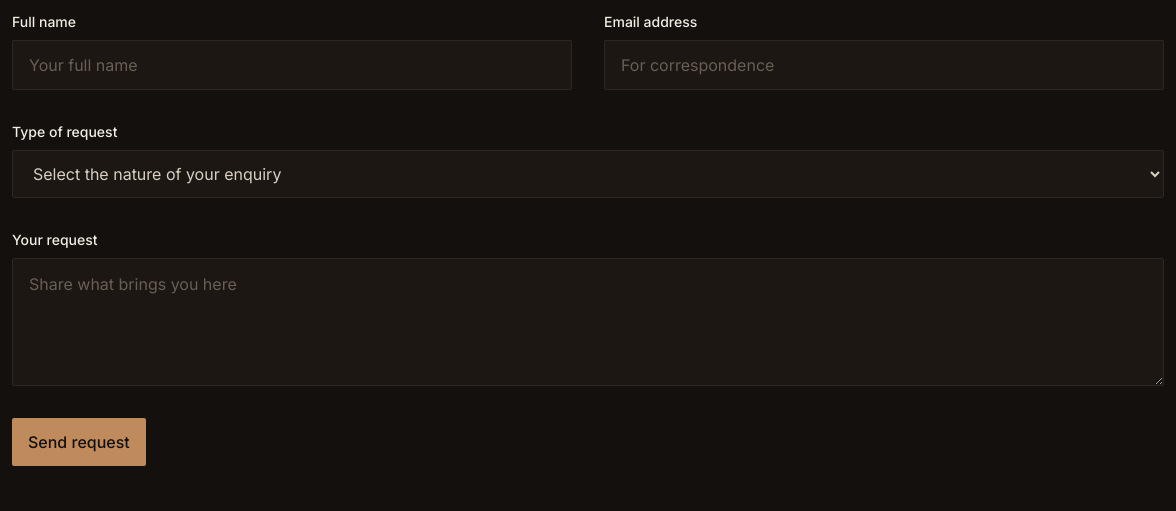
RequestForm — submitting › blocks a submission without selecting a request type
The width and height of the screenshot is (1176, 511).
Type "Thandi Mokoena" into the field labelled "Full name" at (292, 65), box left=12, top=40, right=572, bottom=90
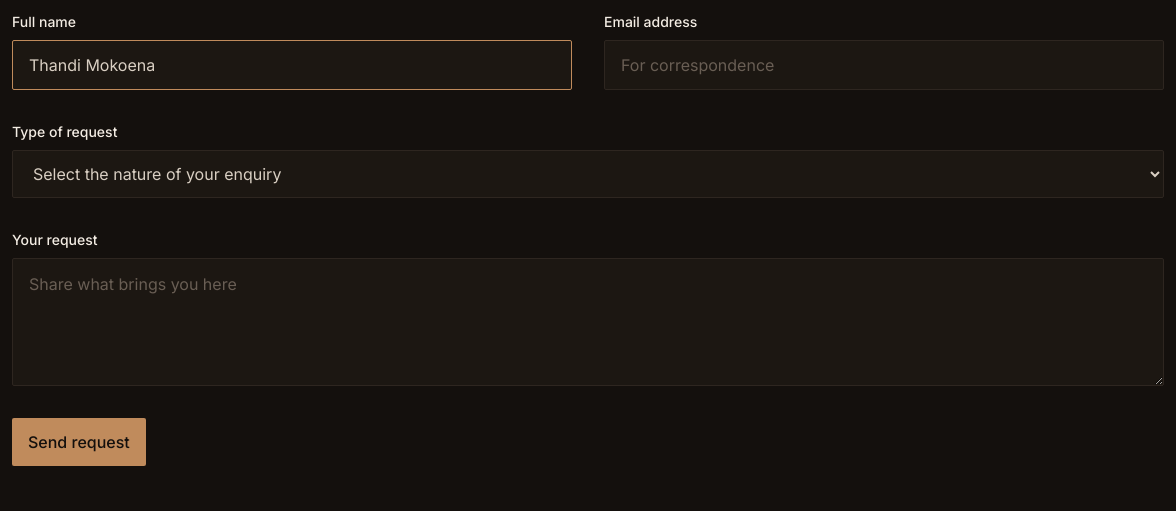
Type "thandi@example.com" into the field labelled "Email address" at (884, 65), box left=604, top=40, right=1164, bottom=90
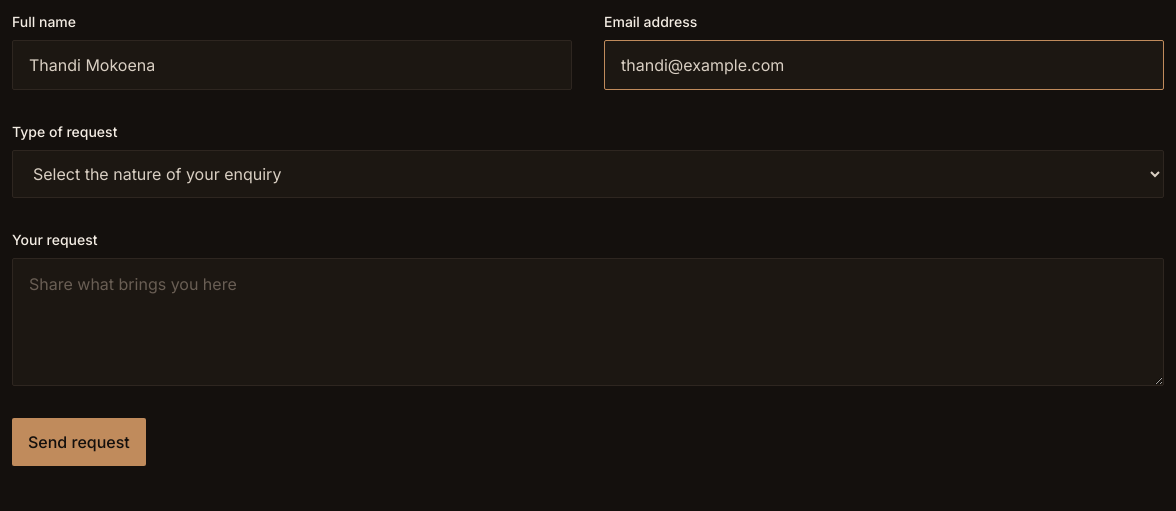
Type "Enquiry" into the text box labelled "Your request" at (588, 322), box left=12, top=258, right=1164, bottom=386
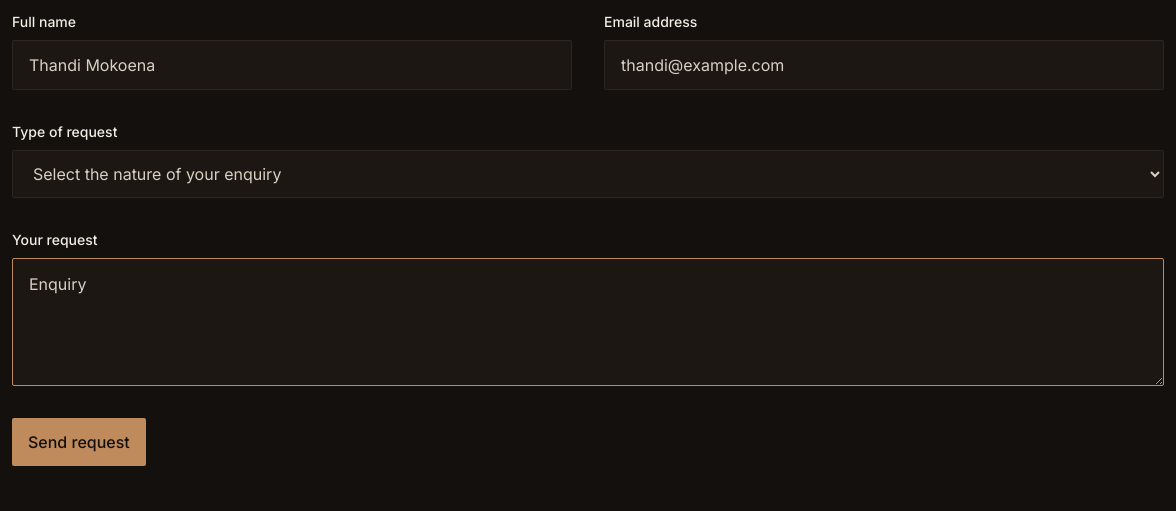
Click the button "Send request" at (79, 442), box left=12, top=418, right=146, bottom=466
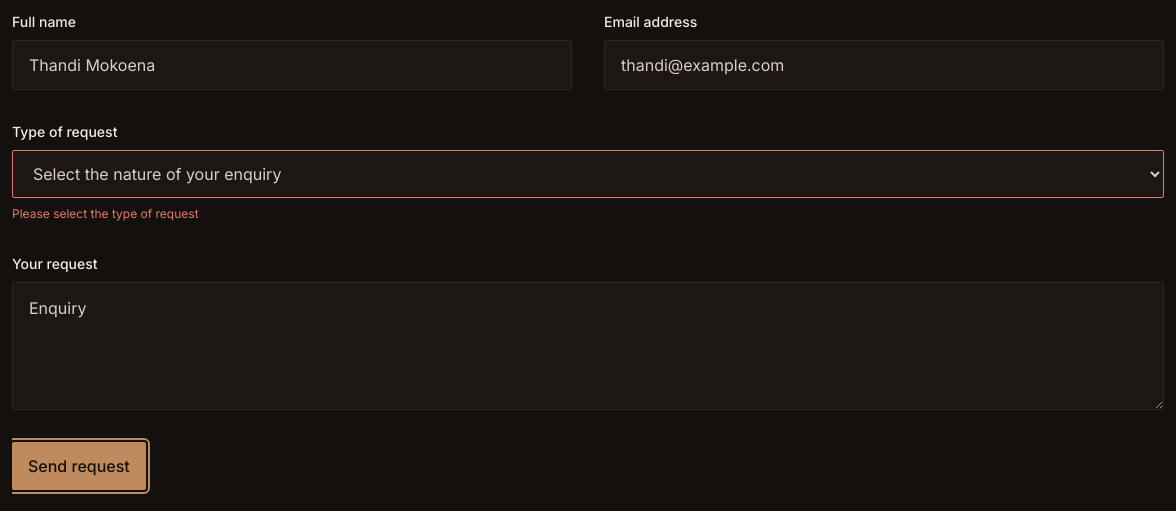
Expected: the text "Please select the type of request" is shown, left=12, top=206, right=199, bottom=221
